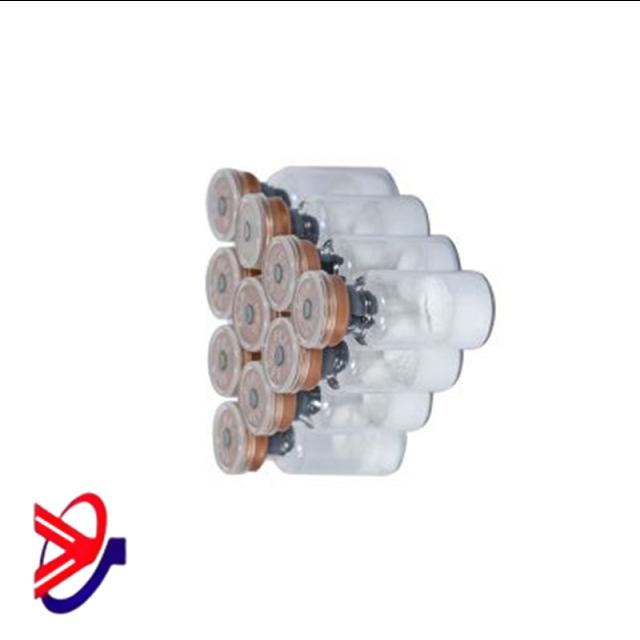vial: (236, 280, 270, 344), (209, 327, 241, 389), (268, 314, 298, 380), (214, 406, 247, 466), (296, 276, 330, 334), (264, 242, 296, 302), (232, 200, 266, 256), (210, 174, 242, 232), (208, 259, 236, 315), (244, 370, 273, 424)
